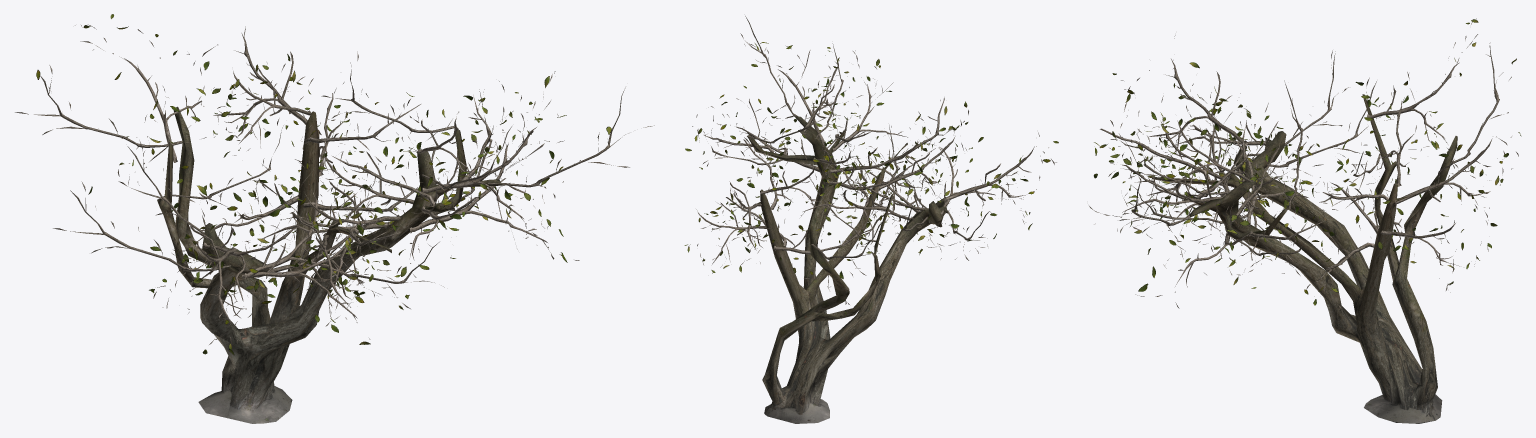
File: tree-b-lod.glb
3 views of the same model, side by side, from view 1: azimuth 30°, elevation 25°; view 2: azimuth 150°, elevation 25°; view 3: azimuth 270°, elevation 25° (orthographic). The views are drawn at different scales.
Visible parts, largest first — view 1: island_tree_02_LOD0; view 2: island_tree_02_LOD0; view 3: island_tree_02_LOD0.
Boxes of the visible parts, <box> form: island_tree_02_LOD0: <box>15,14,654,423</box>; island_tree_02_LOD0: <box>684,16,1058,423</box>; island_tree_02_LOD0: <box>1089,18,1521,423</box>.
Size of the model in its own units: 4.21 by 3.35 by 3.82.
3 materials, 3 textured.
